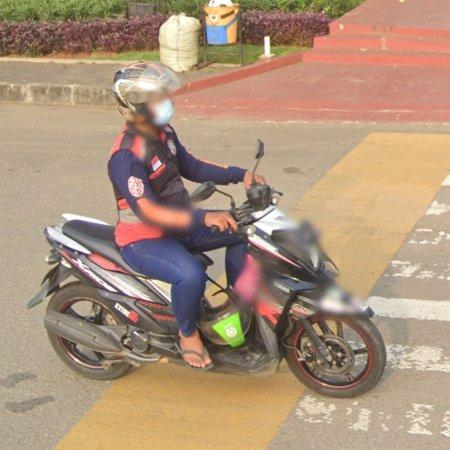motorcycles: (191, 183, 387, 398), (28, 214, 181, 381)
